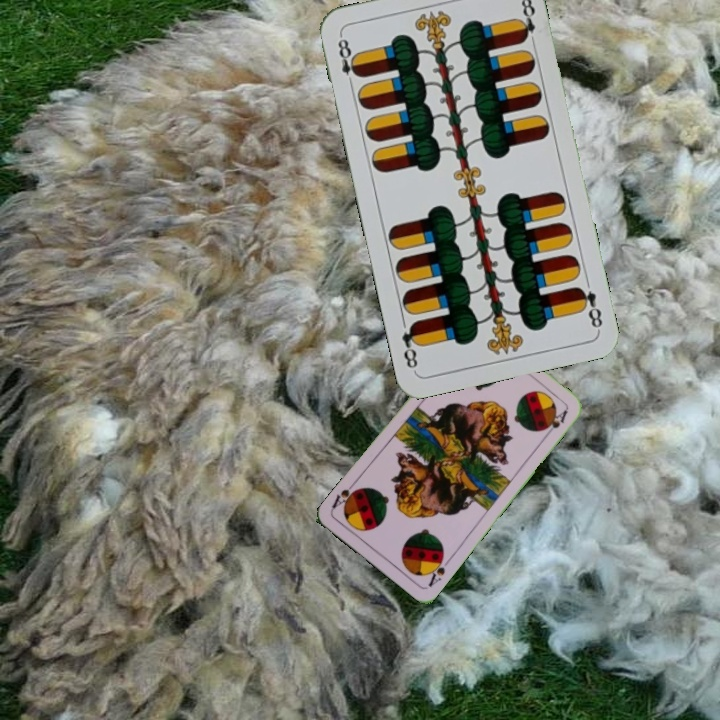E8: (334, 31, 363, 90), (573, 282, 605, 332)
SA: (423, 551, 453, 590)
